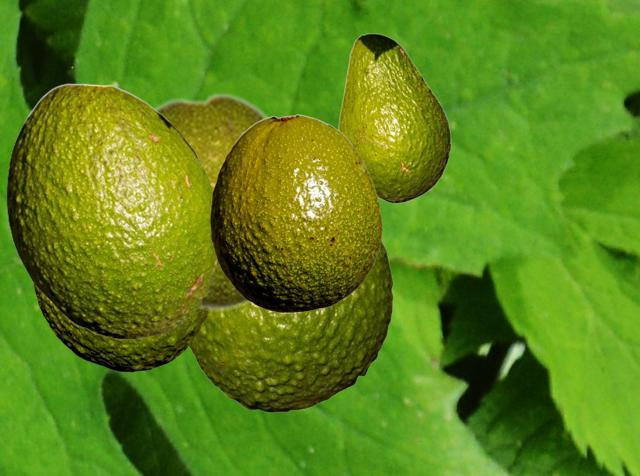avocado: (6, 83, 218, 338), (189, 240, 392, 411), (210, 114, 381, 311), (153, 91, 272, 312), (338, 33, 450, 202), (32, 282, 209, 371)
